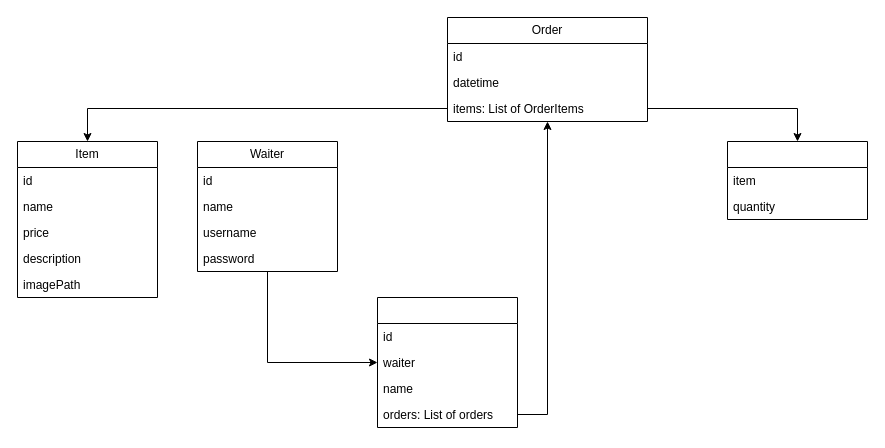
This 885x448 diagram has some shape labels left out. Each missing label, with the box of its shape:
OrderItem: (726, 140, 868, 220)
Table: (376, 296, 518, 428)
